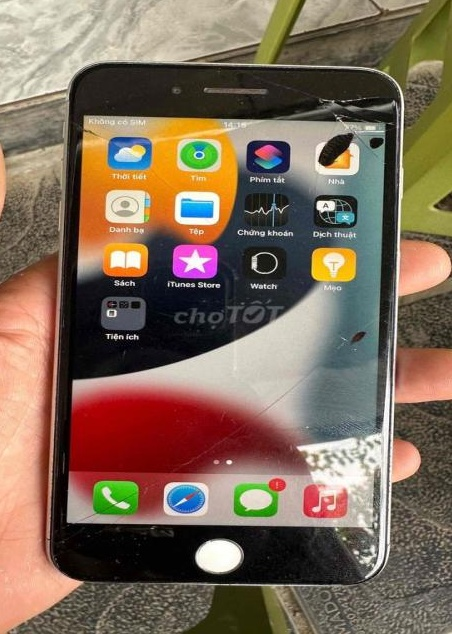physical_damage: (44, 301, 393, 537), (216, 58, 402, 166), (49, 110, 213, 230)
scratch: (193, 542, 279, 576), (332, 549, 375, 578), (45, 552, 71, 576)
